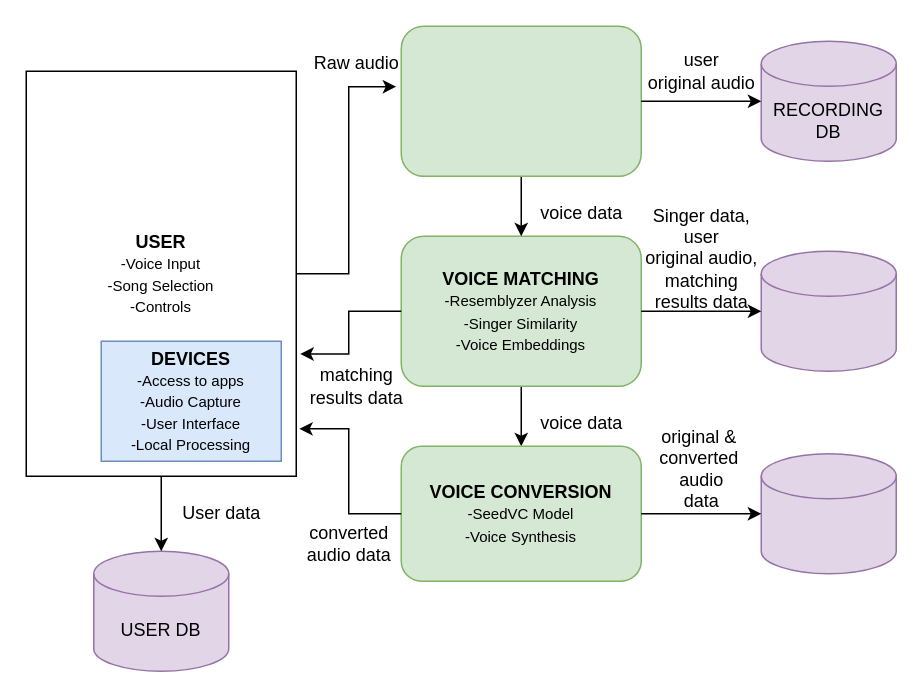
Image size: 923x698. Some labels were removed from this diagram. The centre of each missing label's shape, as x and y in pixels:
CONVERSION DB: (x=828, y=513)
SINGER DB: (x=828, y=310)
VOICE RECORDING -Audio Capture -Format Processing: (x=520, y=100)
